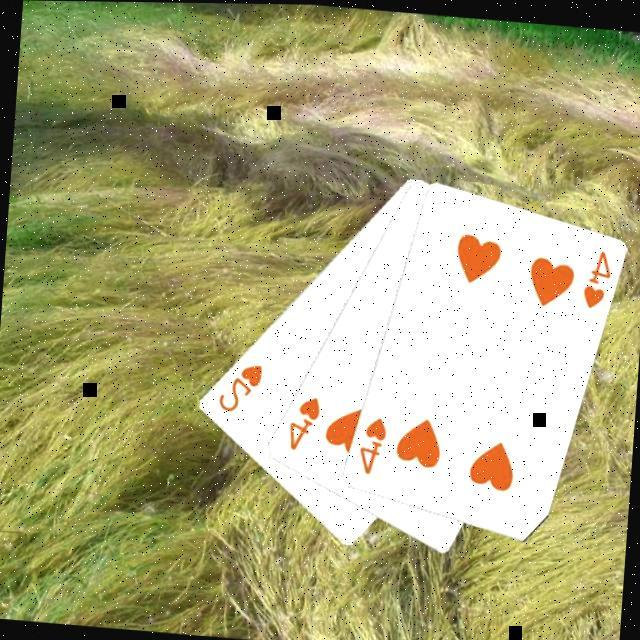2H: (214, 355, 266, 415)
4H: (284, 388, 324, 452), (578, 242, 616, 308), (354, 410, 391, 476)
